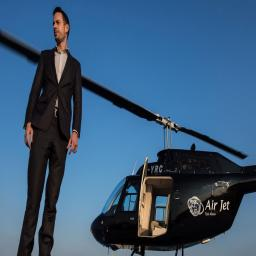helicopter: (1, 31, 256, 253)
